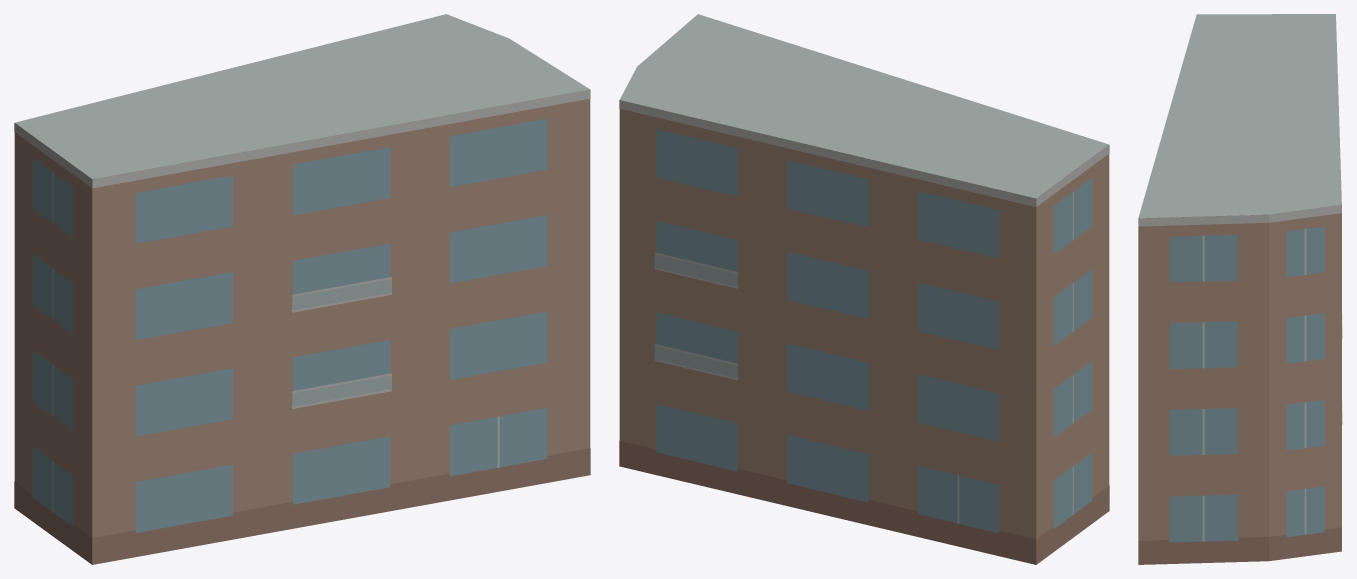
Rendered from survey-upis-33020589.glb.
3 views of the same model, side by side, from view 1: azimuth 30°, elevation 25°; view 2: azimuth 150°, elevation 25°; view 3: azimuth 270°, elevation 25° (orthographic). The views are drawn at different scales.
Visible parts, largest first — view 1: survey-upis-33020589.tmp; view 2: survey-upis-33020589.tmp; view 3: survey-upis-33020589.tmp.
Boxes of the visible parts, x1,y1,x2,y2 form: survey-upis-33020589.tmp: [14, 14, 590, 564]; survey-upis-33020589.tmp: [619, 14, 1109, 564]; survey-upis-33020589.tmp: [1138, 14, 1342, 564].
Bounding box in the file's own units: 13.04 × 10.3 × 5.52.
